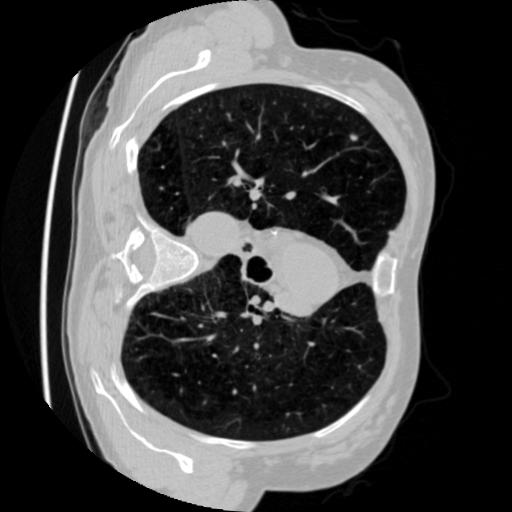nodule: (347, 132, 362, 147)
